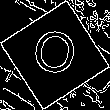O_S: (28, 26, 82, 84)
